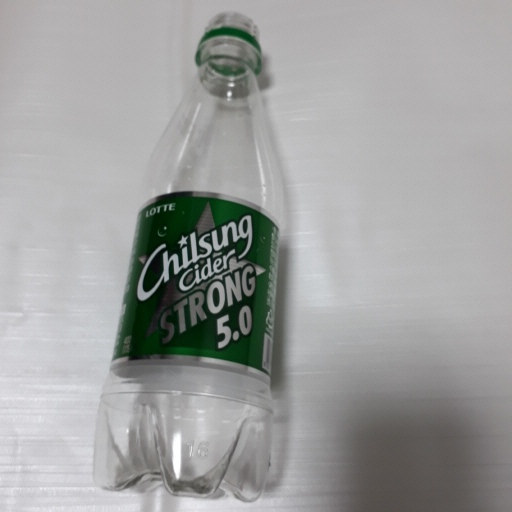Plastic_0: (98, 10, 283, 503)
